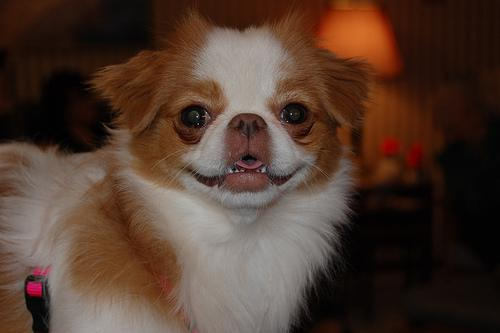dog-japanese_chin: (94, 15, 365, 206)
